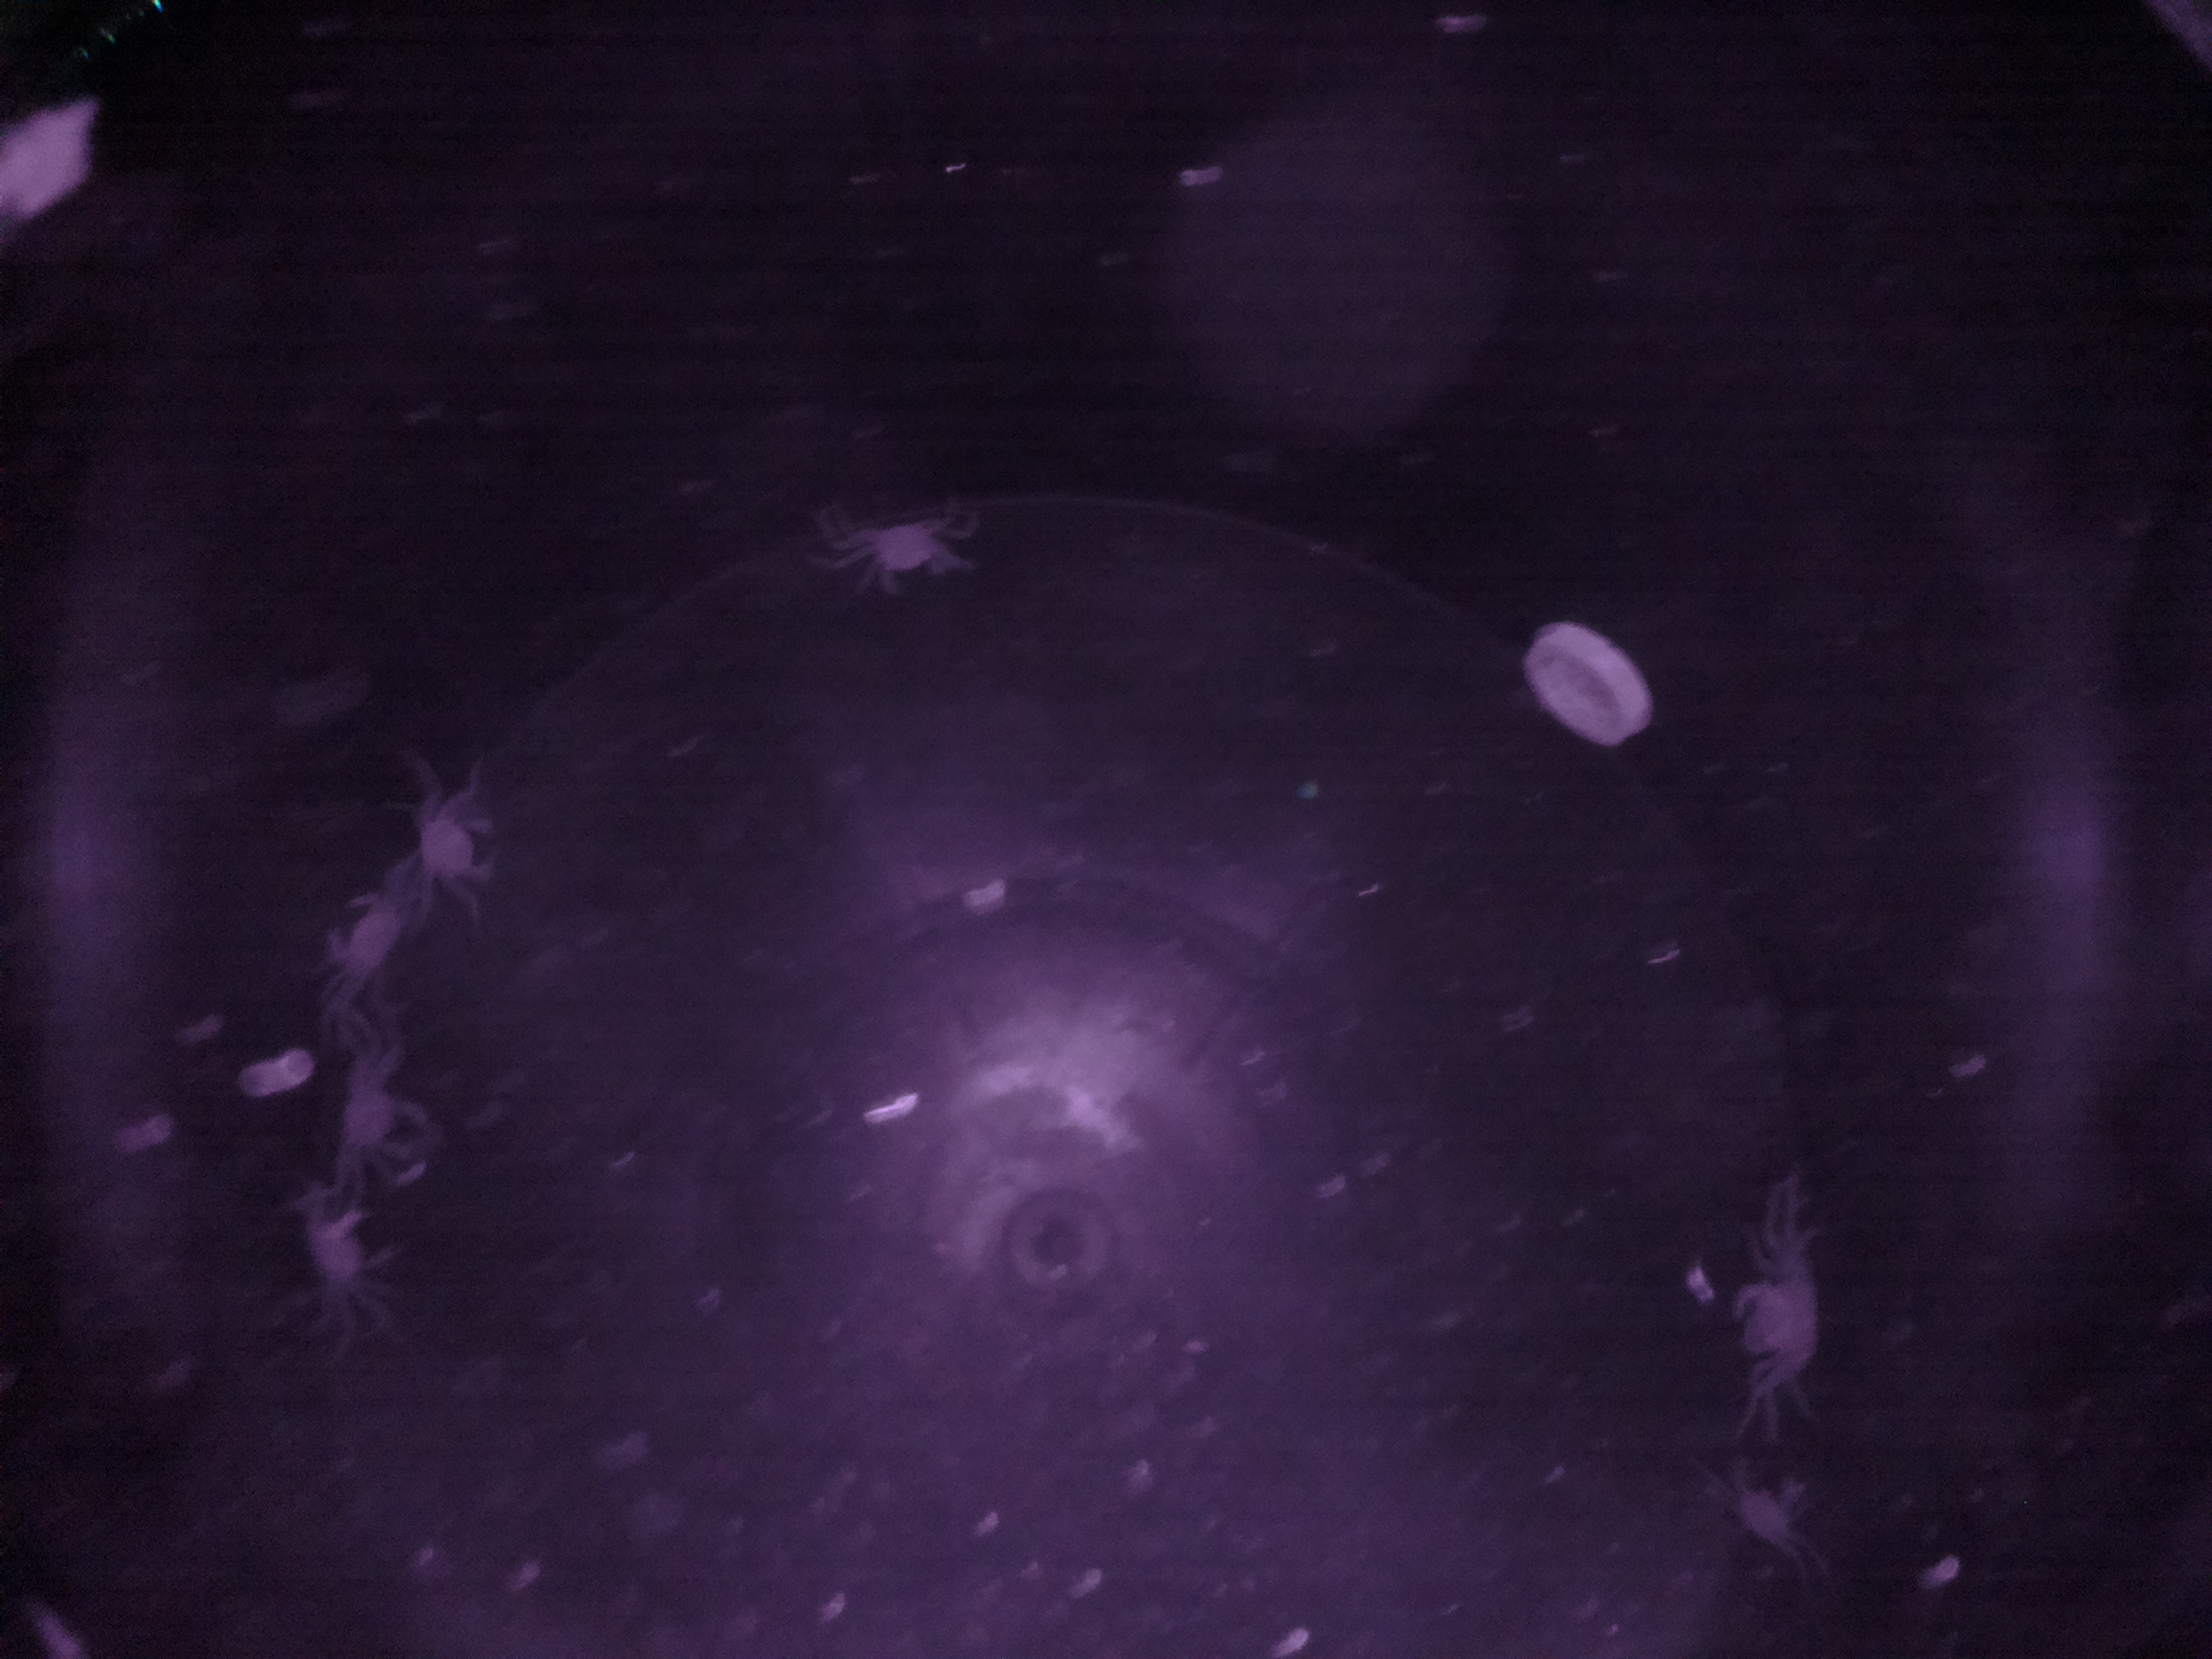Crab: (1710, 1244, 1848, 1387), (327, 1066, 456, 1187), (848, 495, 970, 615), (310, 885, 425, 990)
